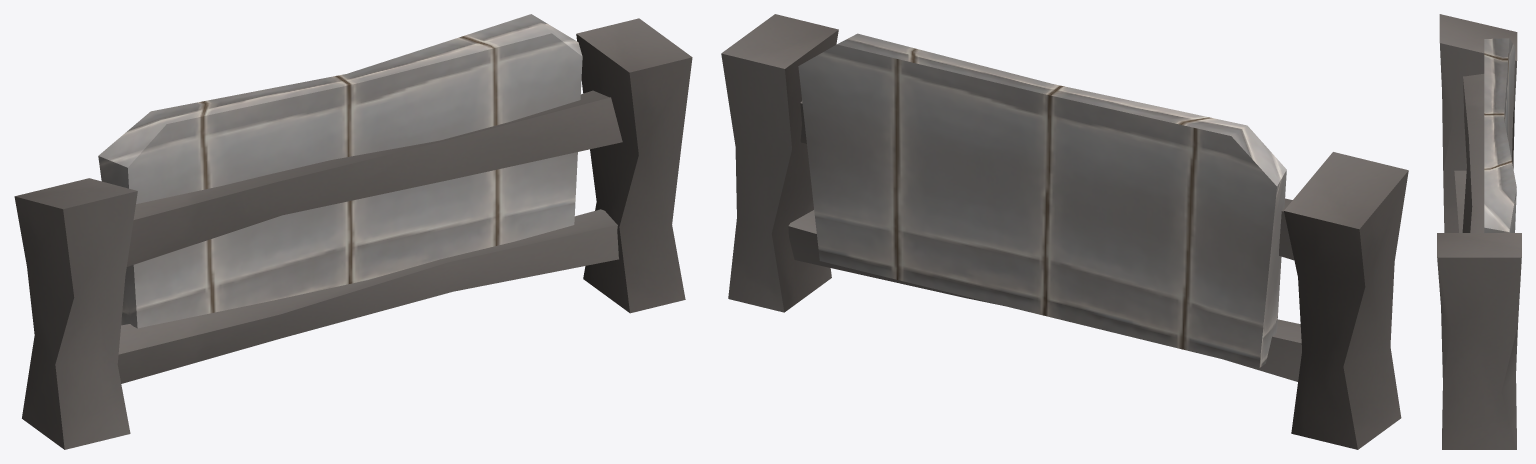
File: Dwarf_Village_Props_10.FBX
3 views of the same model, side by side, from view 1: azimuth 30°, elevation 25°; view 2: azimuth 150°, elevation 25°; view 3: azimuth 270°, elevation 25° (orthographic). The views are drawn at different scales.
Parts seen in each view (by area): view 1: Dwarf_Village_Props_10; view 2: Dwarf_Village_Props_10; view 3: Dwarf_Village_Props_10.
Boxes of the visible parts, x1,y1,x2,y2 form: Dwarf_Village_Props_10: (14, 14, 692, 449); Dwarf_Village_Props_10: (721, 14, 1408, 449); Dwarf_Village_Props_10: (1437, 14, 1521, 449).
Size of the model in its own units: 551 by 233 by 81.
